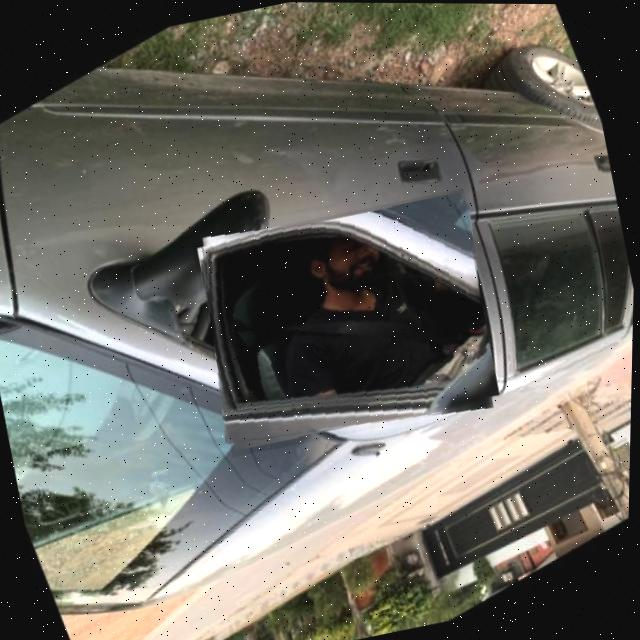seatbelt: (189, 186, 509, 458)
